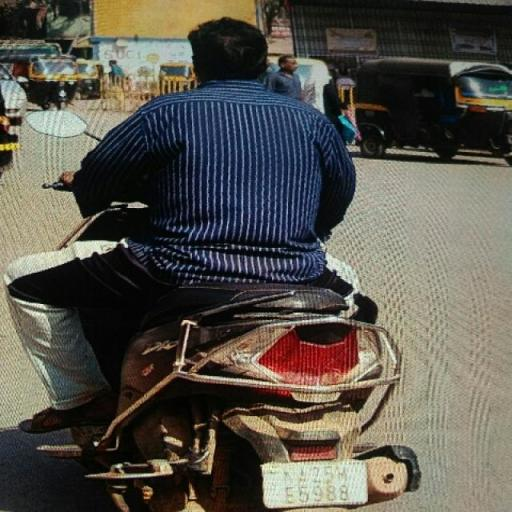bike: (8, 10, 430, 512)
numberplate: (269, 456, 370, 506)
withouthelmet: (191, 18, 267, 80)
